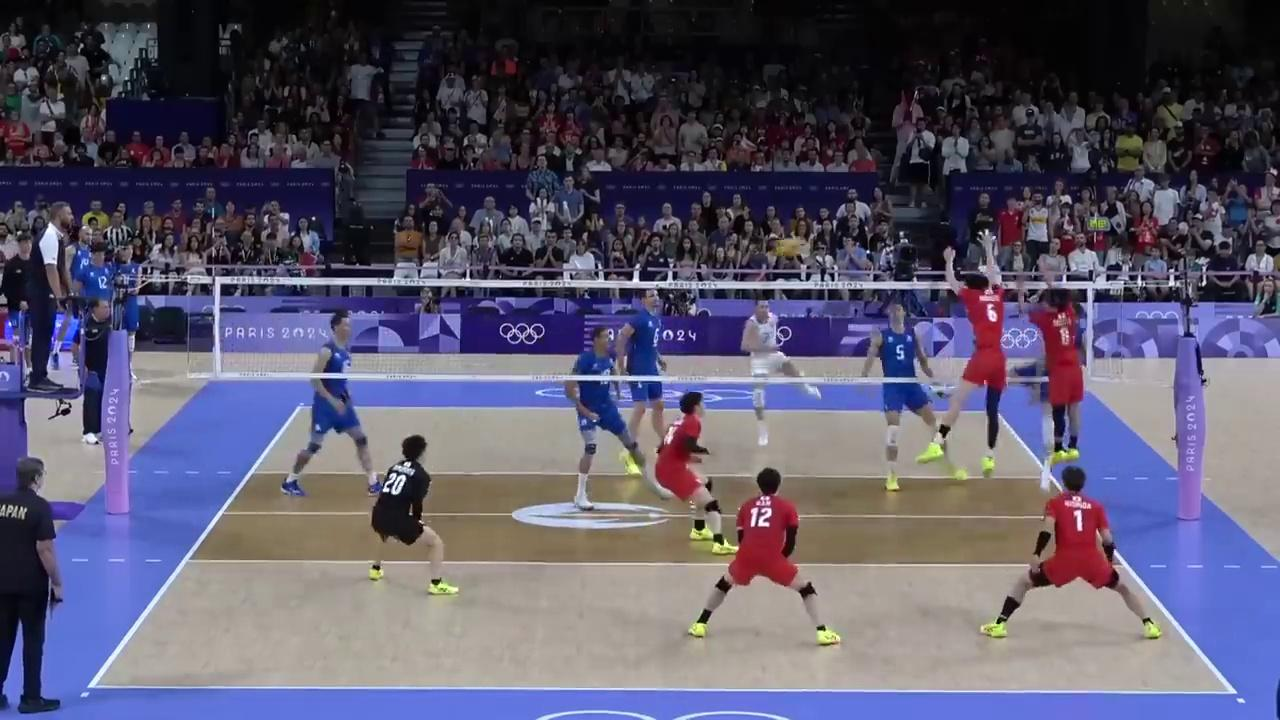ball: (773, 237, 803, 254)
